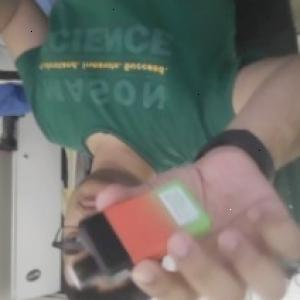Swift-E-Ciggirate: (65, 172, 213, 293)
